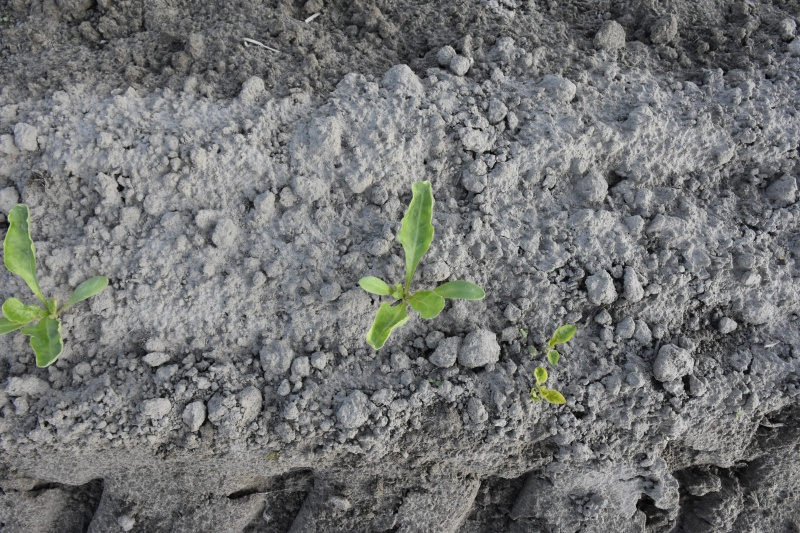field bindweed: (528, 322, 580, 365), (530, 366, 565, 408)
sugar beet: (356, 181, 480, 345), (1, 203, 110, 372)
